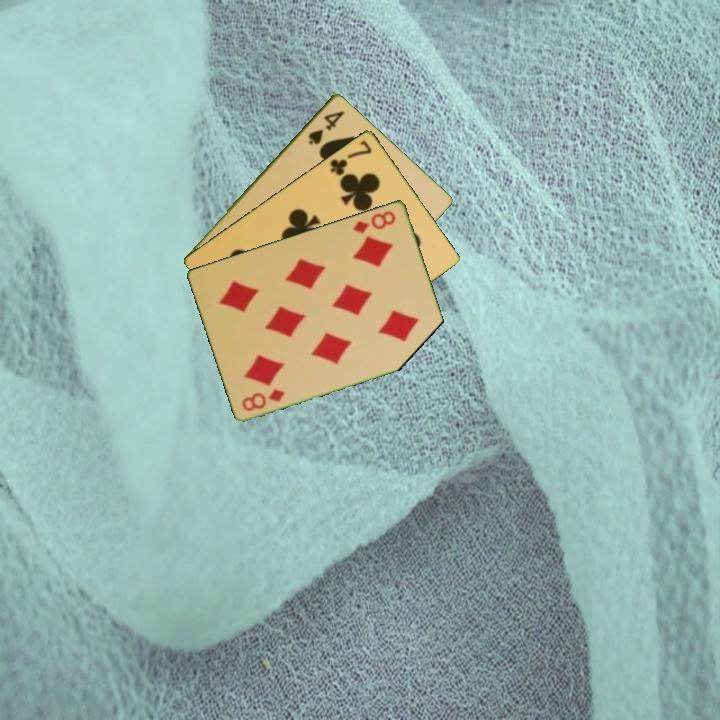4s: (305, 107, 347, 147)
7c: (326, 136, 375, 178)
8d: (238, 385, 289, 414), (349, 207, 398, 236)
